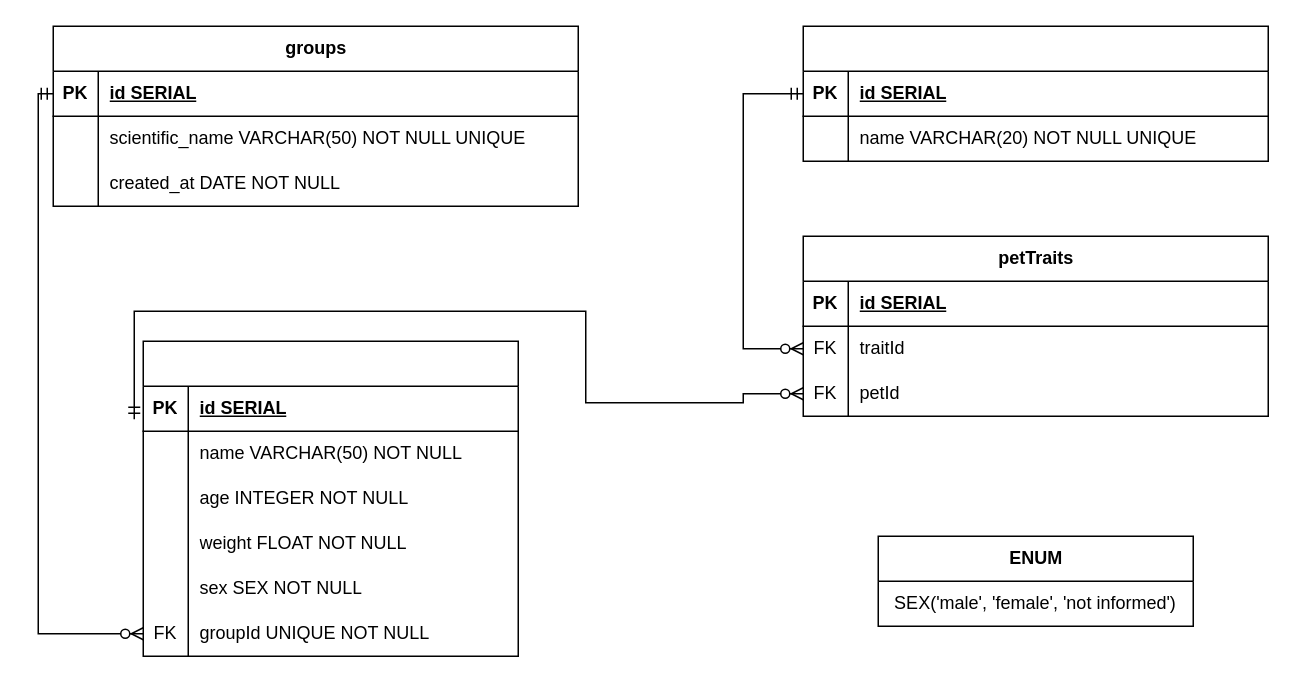
Some shapes in this 1295 by 683 pixel diagram are drawn without their labels. The box of each missing label's shape, as (x1, y1, x2, y2) in pixels:
pets: (142, 340, 518, 656)
traits: (802, 25, 1268, 161)
